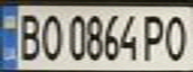0: (63, 10, 84, 62)
4: (118, 10, 142, 62)
6: (103, 11, 124, 62)
8: (84, 11, 106, 62)
B: (12, 10, 45, 62)
O: (160, 11, 193, 62), (36, 10, 63, 62)
P: (139, 11, 172, 62)
